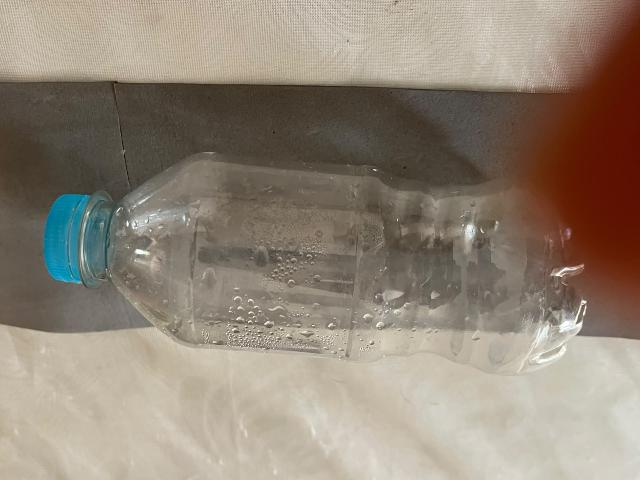PET: (40, 139, 485, 435)
